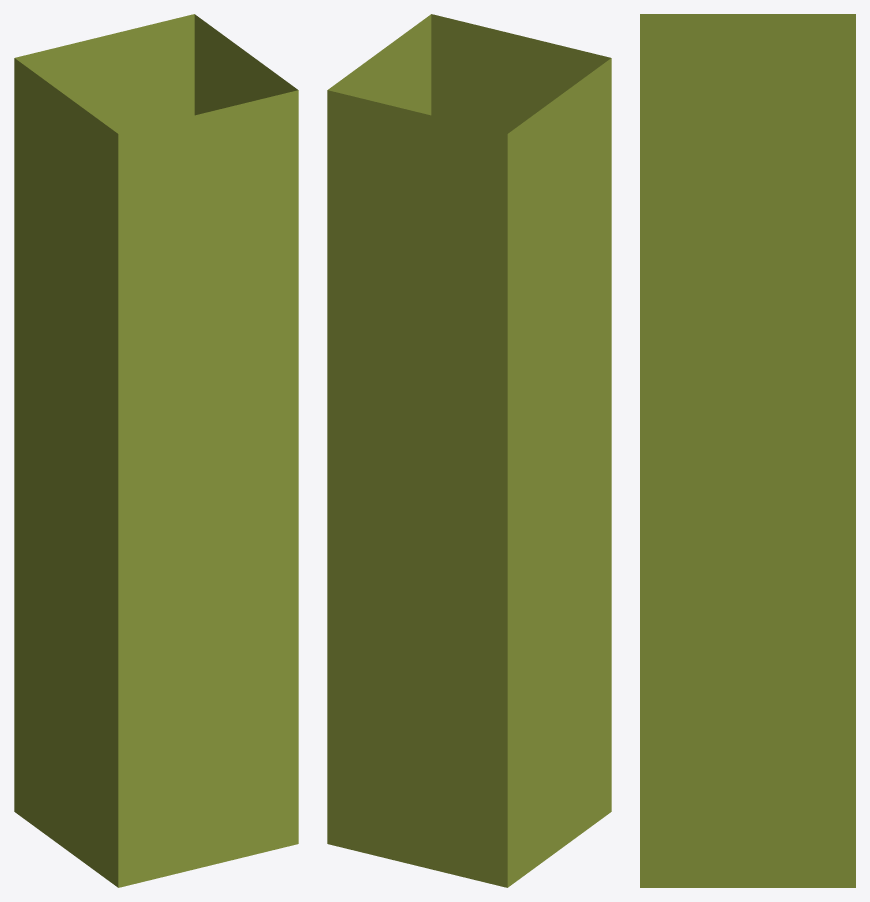
File: Sci_Interior_column005.fbx
3 views of the same model, side by side, from view 1: azimuth 30°, elevation 25°; view 2: azimuth 150°, elevation 25°; view 3: azimuth 270°, elevation 25° (orthographic). The views are drawn at different scales.
Parts seen in each view (by area): view 1: Sci_Interior_column005; view 2: Sci_Interior_column005; view 3: Sci_Interior_column005.
Part boxes in pixels (box(x1,y1,x2,y2)): Sci_Interior_column005: box(14, 14, 298, 887); Sci_Interior_column005: box(327, 14, 611, 887); Sci_Interior_column005: box(640, 14, 855, 887).
Bounding box in the file's own units: 19.69 × 78.74 × 19.69.
